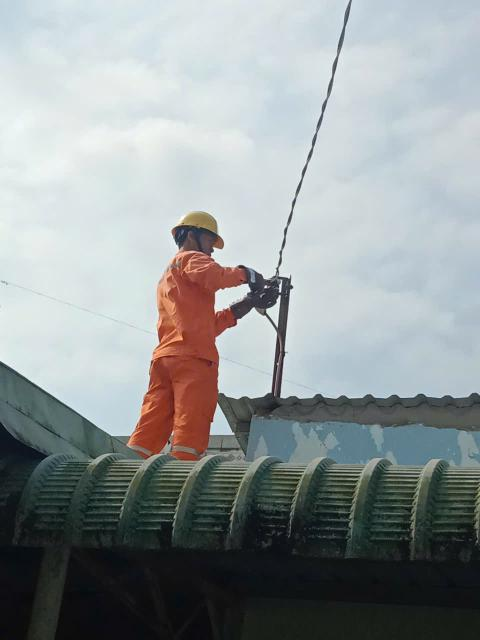gloves: (222, 290, 286, 320), (234, 261, 271, 294)
helmet: (163, 203, 237, 252)
